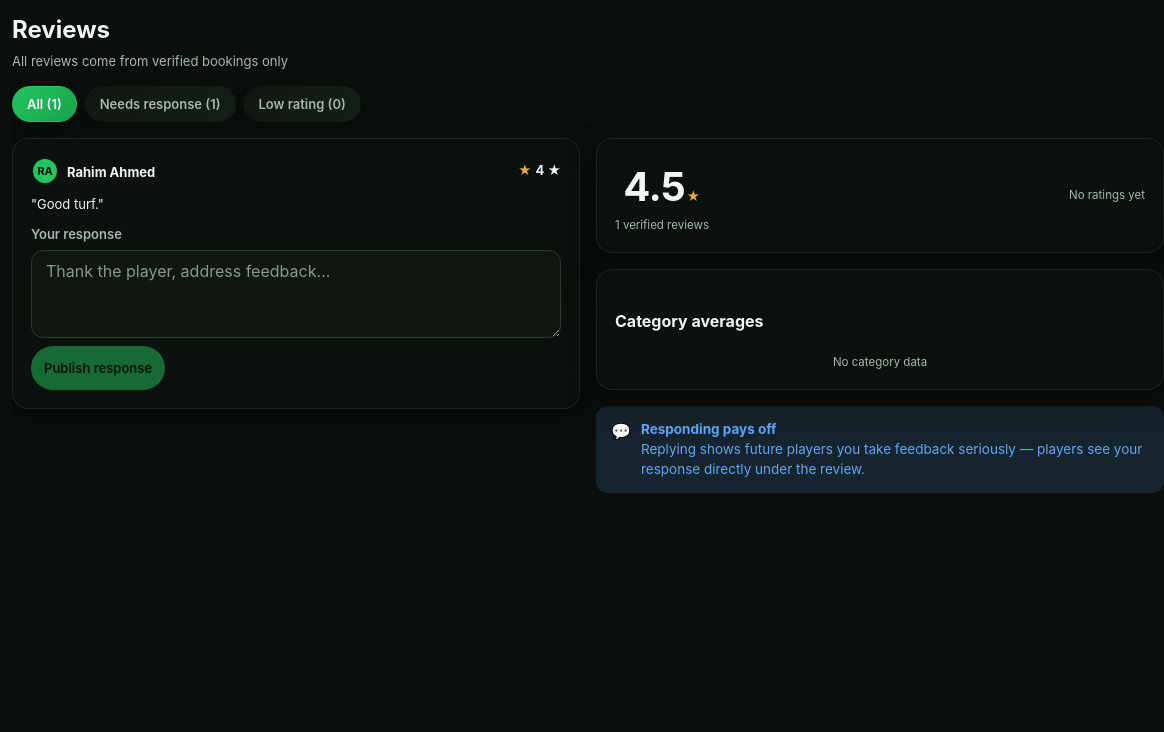
Test case: owner ReviewsPage › reports the failure instead of claiming the response was published
In the text box labelled "Your response": (296, 294) [31,250,561,338], type "Thanks!"
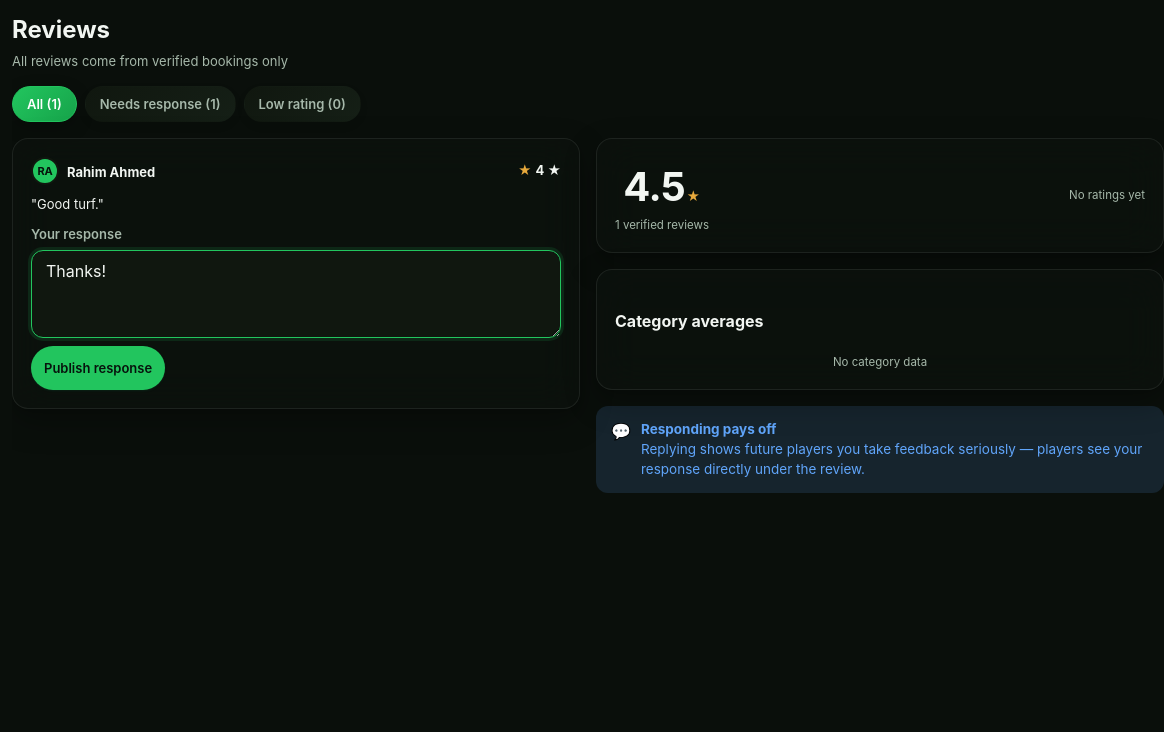
Click the button "Publish response": (98, 368) [31,346,165,390]
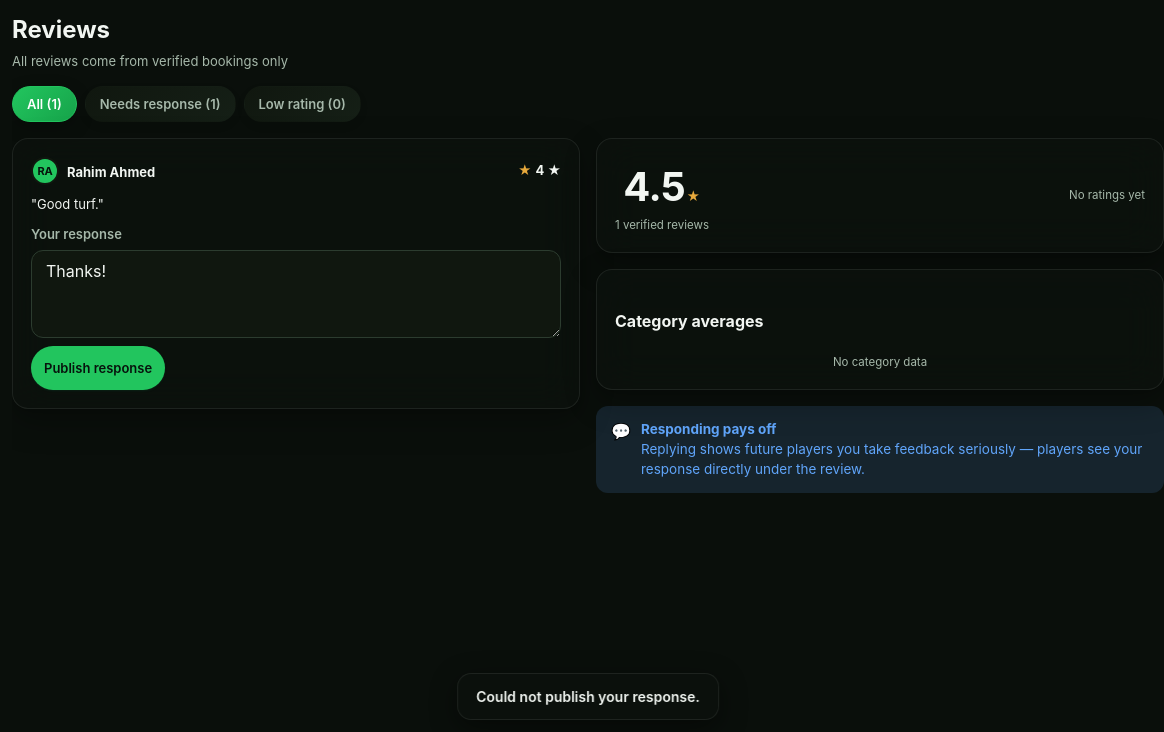
Expected: the text "Could not publish your response." is shown, [457,673,719,720]
